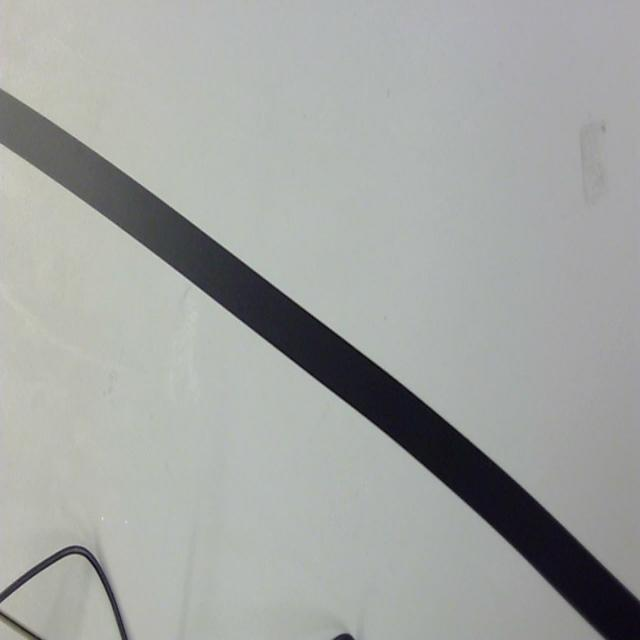tape: (0, 66, 640, 640)
